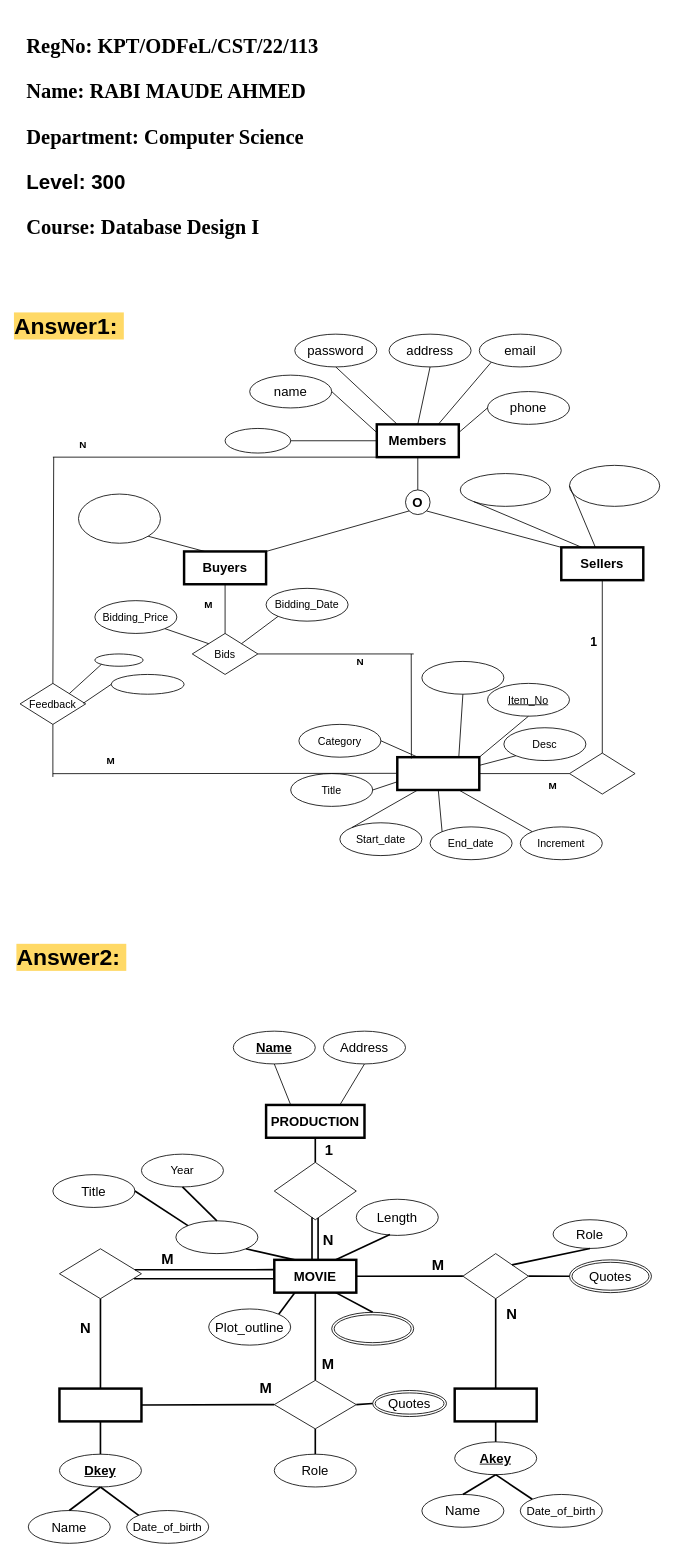
Some shapes in this 674 by 1558 pixel diagram are drawn without their labels. Each missing label, with the centre of its shape:
Account_No: (x=504, y=489)
ACTOR: (x=495, y=1404)
ACTS: (x=495, y=1276)
Comment: (x=147, y=684)
DIR_ACTS: (x=314, y=1404)
DIRECTOR: (x=100, y=1404)
DIRECTS: (x=100, y=1273)
Genre: (x=372, y=1328)
ID: (x=257, y=440)
Items: (x=438, y=773)
Mkey: (x=216, y=1237)
Place: (x=602, y=773)
PRODUCES: (x=314, y=1191)
Rate: (x=118, y=659)
Routing Number: (x=614, y=485)
Shipping Address: (x=119, y=518)
Start_price: (x=462, y=677)
